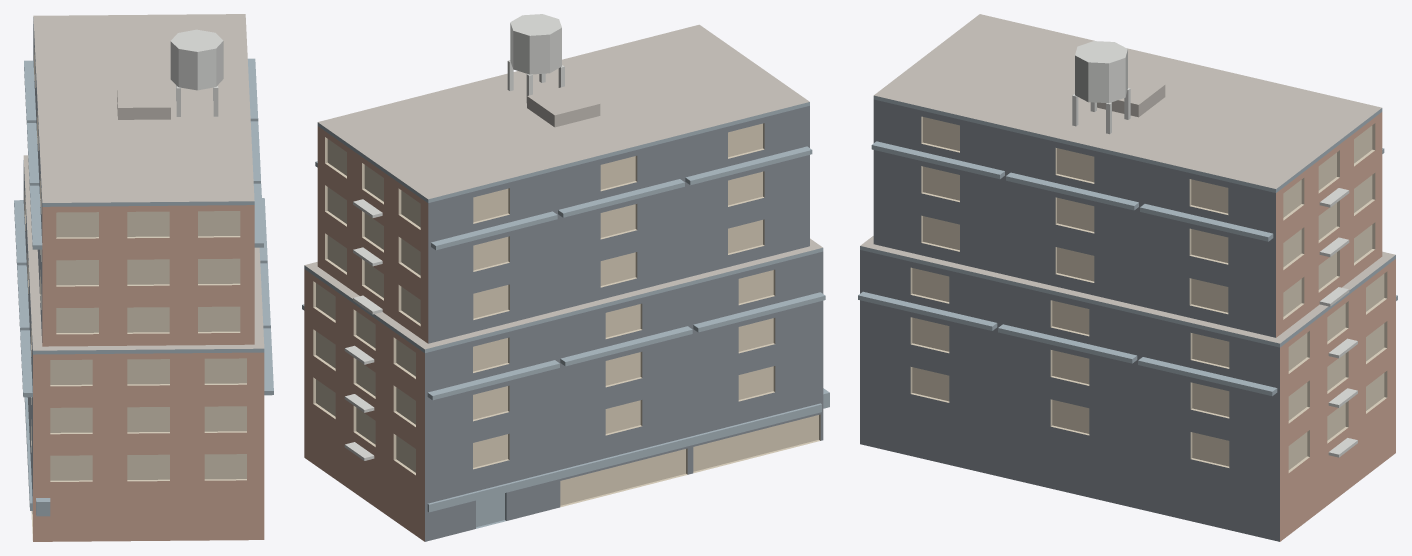
File: doitt-39969__lod_0.glb
3 views of the same model, side by side, from view 1: azimuth 30°, elevation 25°; view 2: azimuth 150°, elevation 25°; view 3: azimuth 270°, elevation 25° (orthographic). The views are drawn at different scales.
Bounding box in the file's own units: 27.98 × 28.22 × 33.12.
